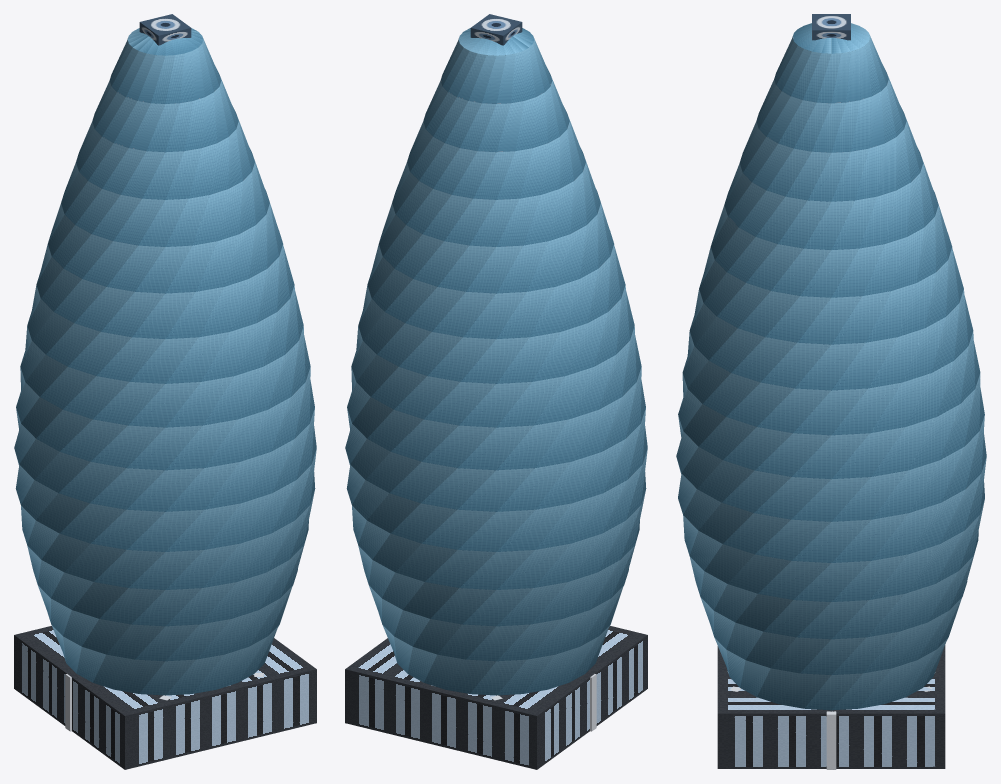
File: landmark_the_gherkin.glb
The picture shows the model from 3 angles, left to right: view 1: azimuth 30°, elevation 25°; view 2: azimuth 150°, elevation 25°; view 3: azimuth 270°, elevation 25°; orthographic projection. The views are drawn at different scales.
Parts seen in each view (by area): view 1: Landmark_The_Gherkin; view 2: Landmark_The_Gherkin; view 3: Landmark_The_Gherkin.
Boxes of the visible parts, x1=… form: Landmark_The_Gherkin: x1=14, y1=14, x2=316, y2=769; Landmark_The_Gherkin: x1=345, y1=14, x2=647, y2=769; Landmark_The_Gherkin: x1=676, y1=14, x2=986, y2=769.
Size of the model in its own units: 11.2 by 27.8 by 11.2.
1 material, 1 textured.
